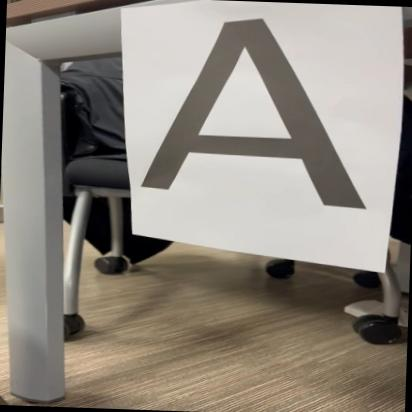seat: (138, 14, 380, 221)
